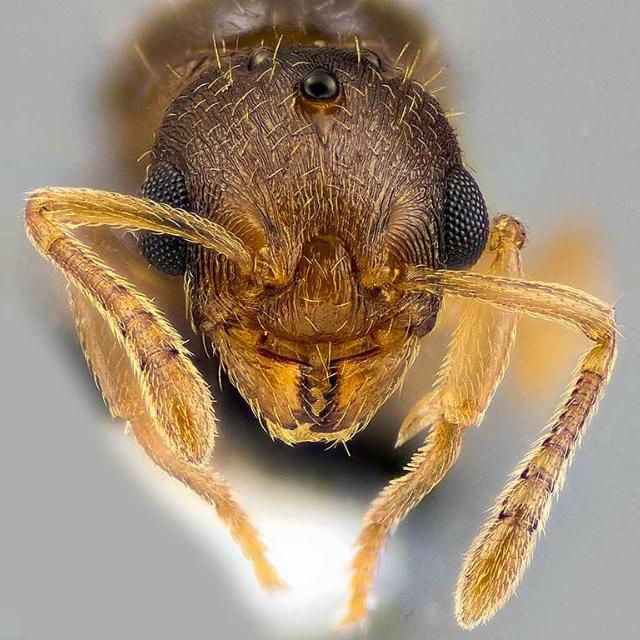Temnothorax: (21, 53, 631, 635)
